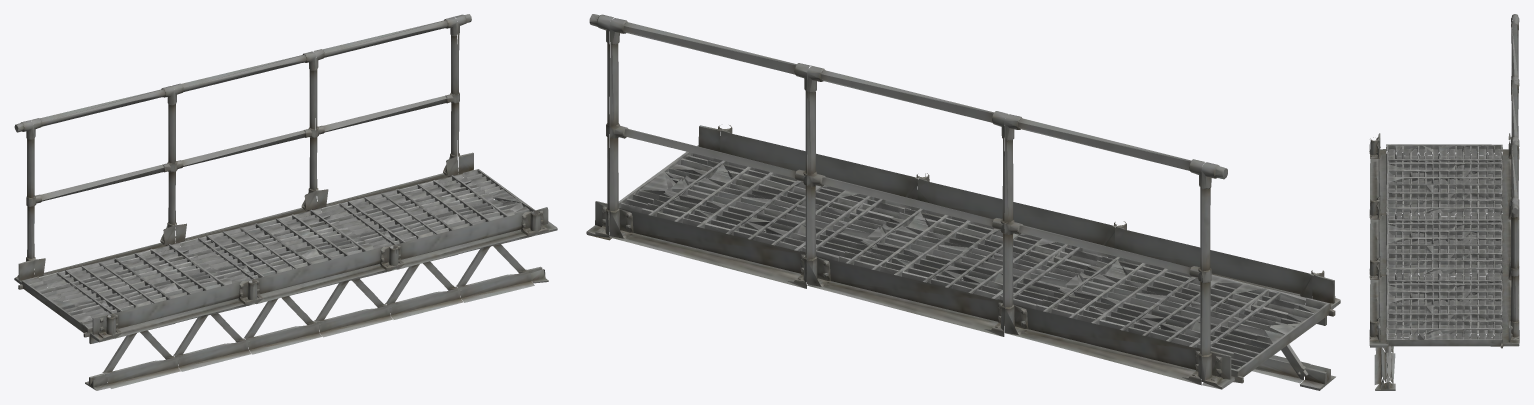
The model's file is lattice_catwalk_section.glb.
3 renders of one model, left to right at view 1: azimuth 30°, elevation 25°; view 2: azimuth 150°, elevation 25°; view 3: azimuth 270°, elevation 25°, orthographic. The views are drawn at different scales.
Parts seen in each view (by area): view 1: main; view 2: main; view 3: main.
Part boxes in pixels (box(x1,y1,x2,y2)): main: box(14, 14, 557, 390); main: box(586, 14, 1340, 390); main: box(1369, 14, 1519, 390).
Bounding box in the file's own units: 3 × 1.3 × 0.959.
Materials: 1 (1 with a texture image).
